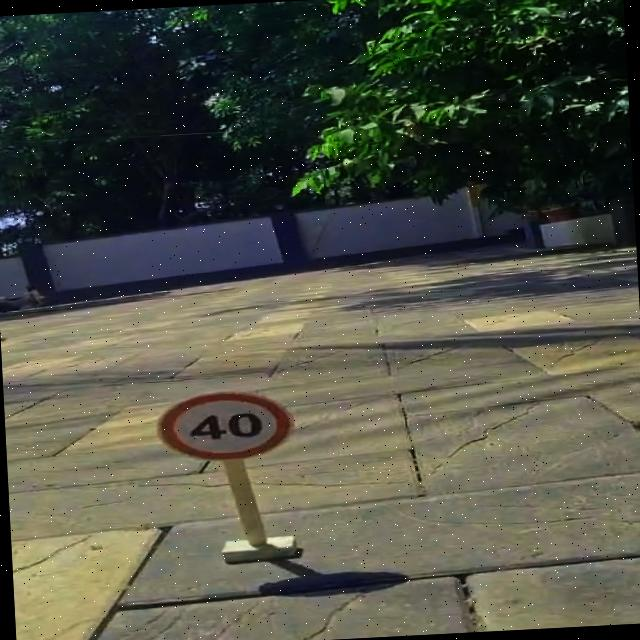Speed40: (150, 386, 304, 468)
